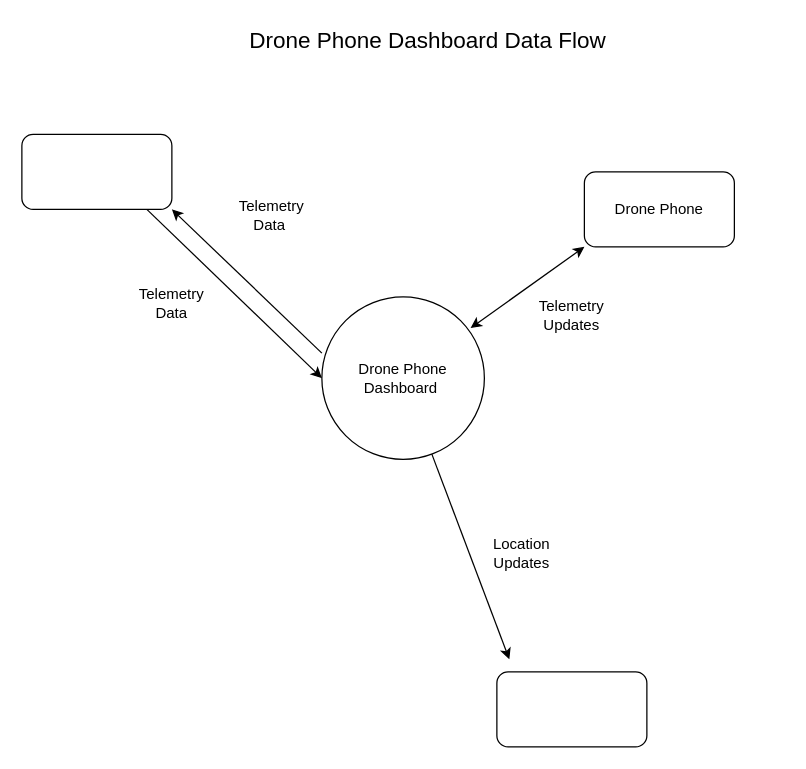
This 806x769 diagram has some shape labels left out. The box of each missing label's shape, as (x1, y1, x2, y2) in pixels:
TAKy Server: (21, 133, 172, 209)
Users: (496, 671, 647, 747)
